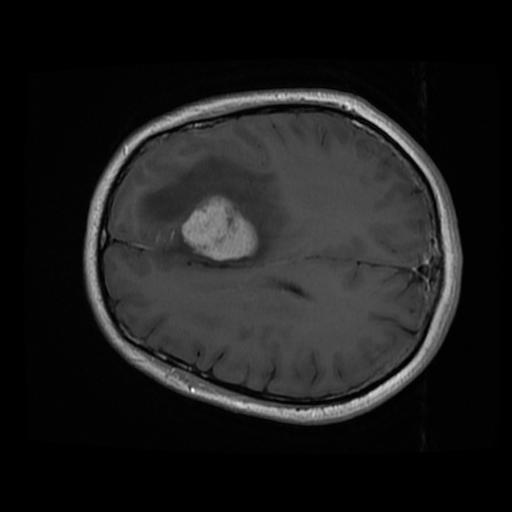meningioma: (181, 196, 259, 261)
